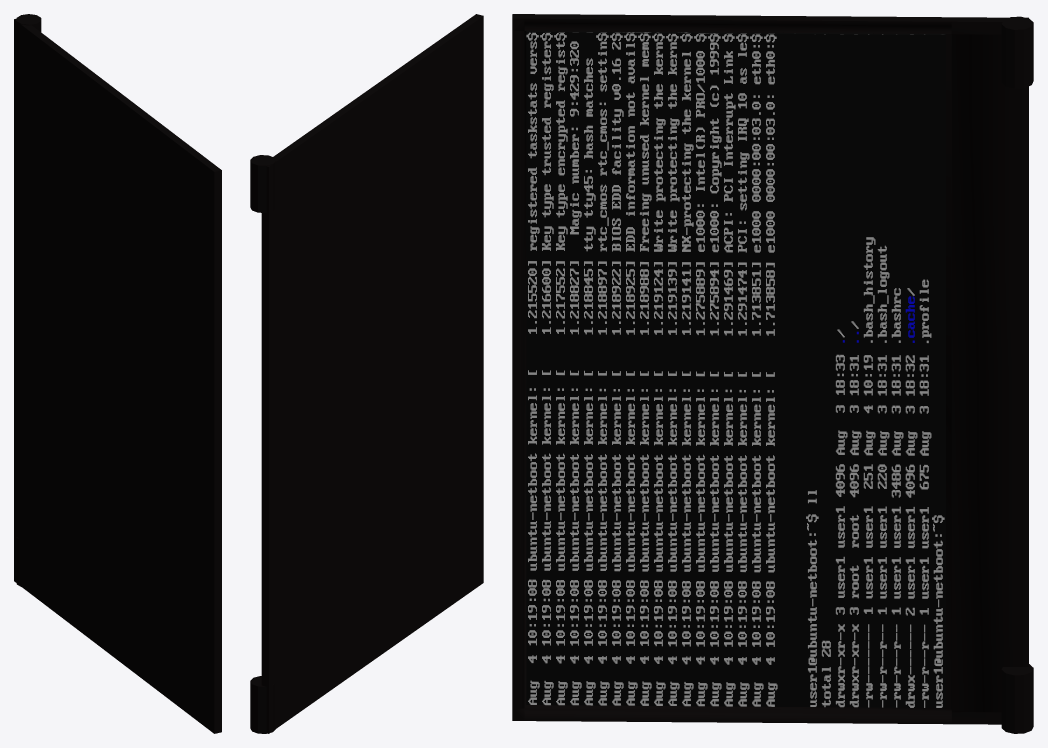
Rendered from LaptopLid.fbx.
The picture shows the model from 3 angles, left to right: view 1: azimuth 30°, elevation 25°; view 2: azimuth 150°, elevation 25°; view 3: azimuth 270°, elevation 25°; orthographic projection. The views are drawn at different scales.
Parts seen in each view (by area): view 1: LOD0; view 2: LOD0; view 3: LOD0.
Part boxes in pixels (bbox=[...]): LOD0: bbox=[14, 14, 221, 733]; LOD0: bbox=[250, 14, 483, 733]; LOD0: bbox=[512, 14, 1033, 733].
Size of what is drawn, in the model's own units: 1.85 by 36.08 by 24.22.
